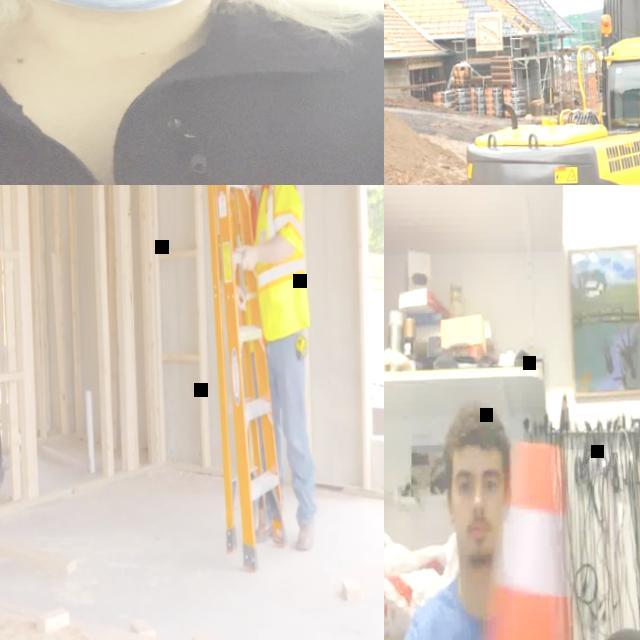vest: (250, 185, 311, 340)
